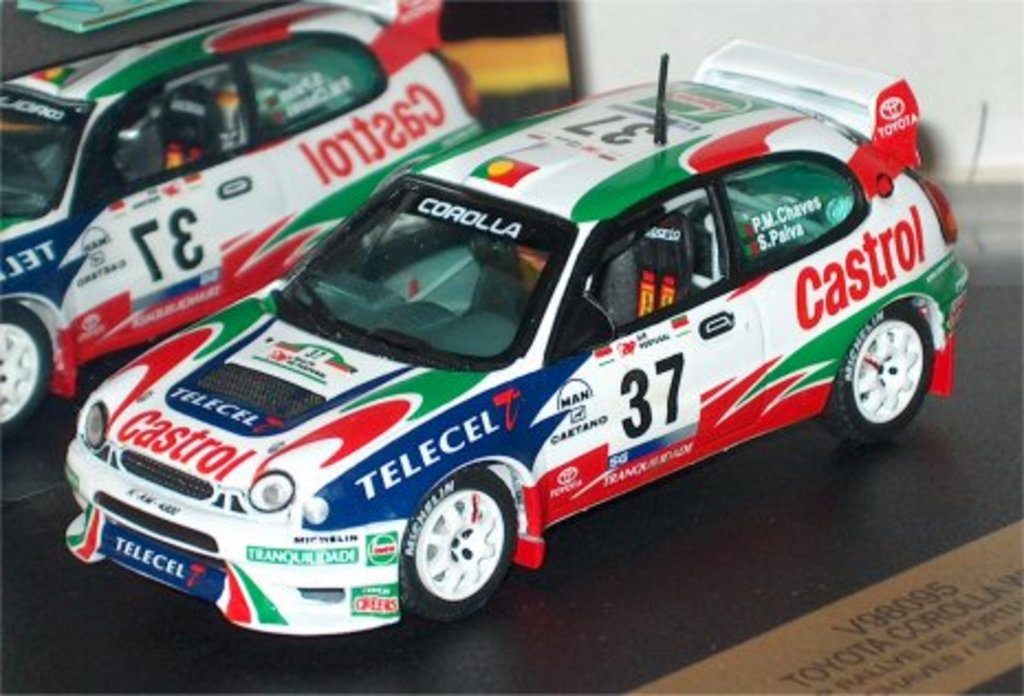Car: (63, 38, 970, 635)
